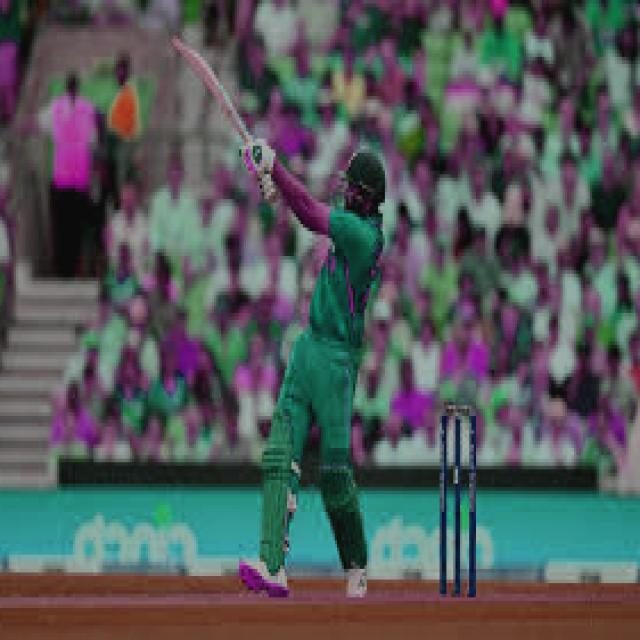toe: (163, 30, 184, 52)
